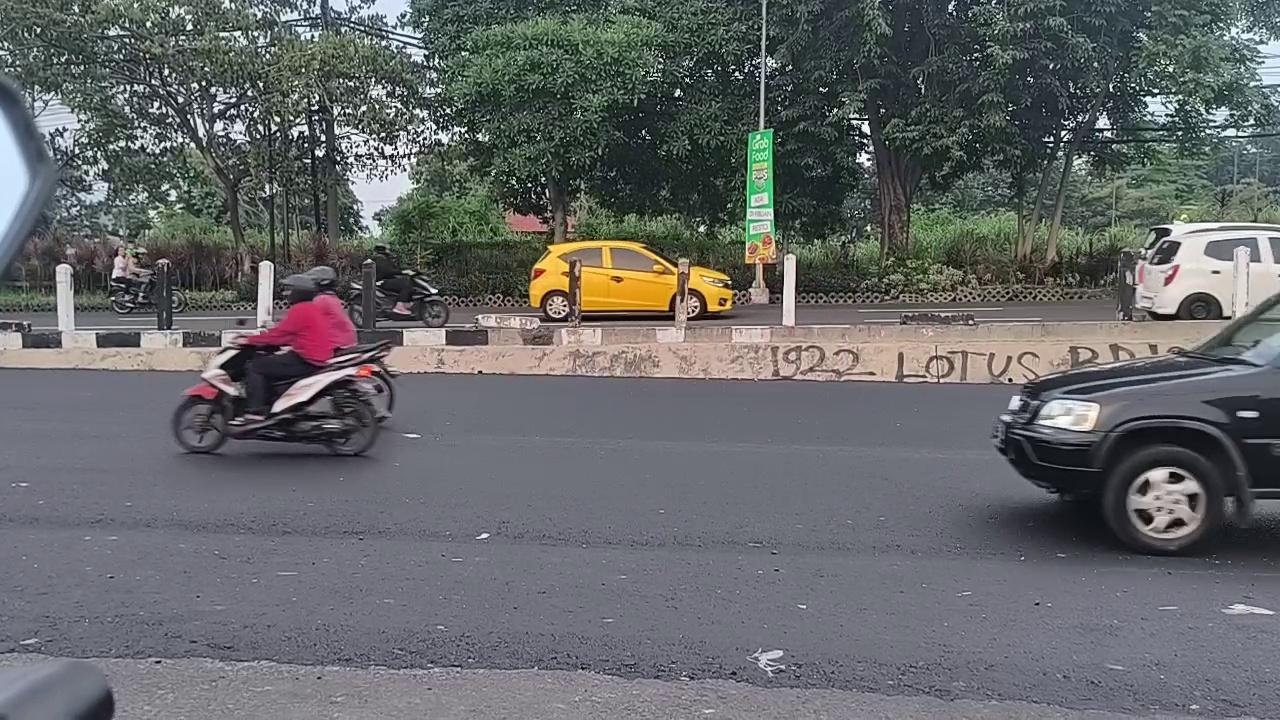Helmet: (229, 274, 344, 426), (306, 265, 357, 346), (372, 243, 411, 314)
Motor: (172, 343, 388, 455), (374, 270, 449, 327), (108, 272, 155, 314)
